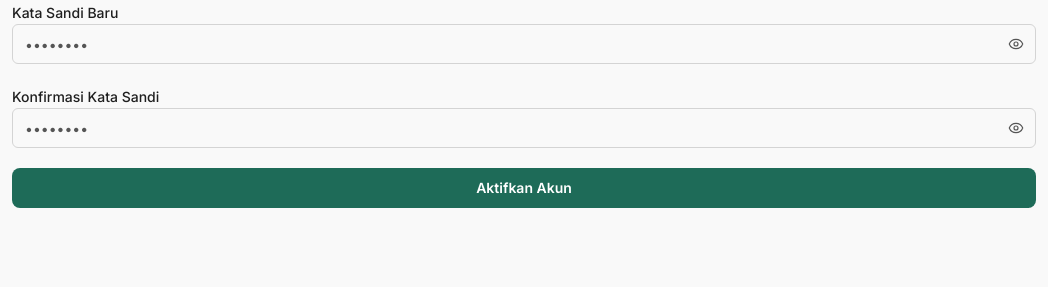
ResetPasswordForm token check on page open › invite link: activation wording, success points to login, dead link tells user to ask the admin
Type "rahasia123" into the password field labelled "Kata Sandi Baru". click: (524, 44)
box: [12,24,1036,64]
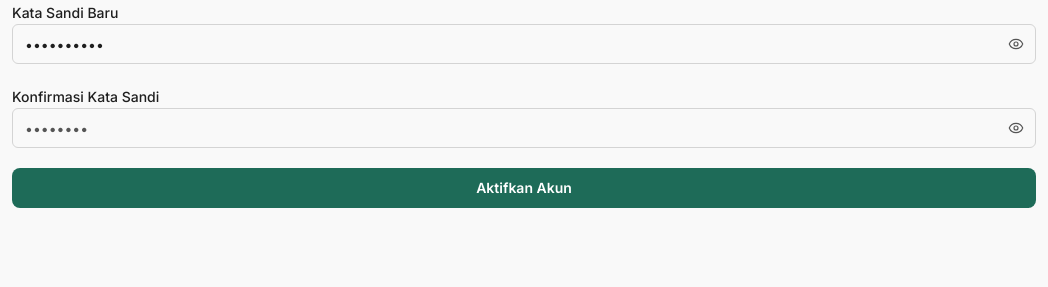
Type "rahasia123" into the password field labelled "Konfirmasi Kata Sandi". click: (524, 128)
box: [12,108,1036,148]
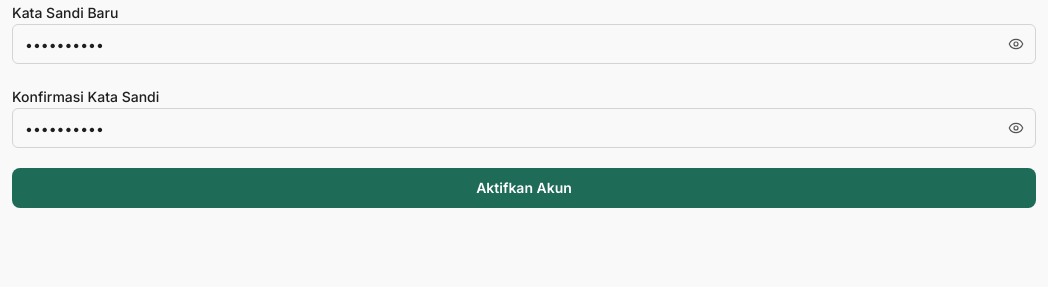
Click the button "Aktifkan Akun". click: (524, 188)
box: [12,168,1036,208]
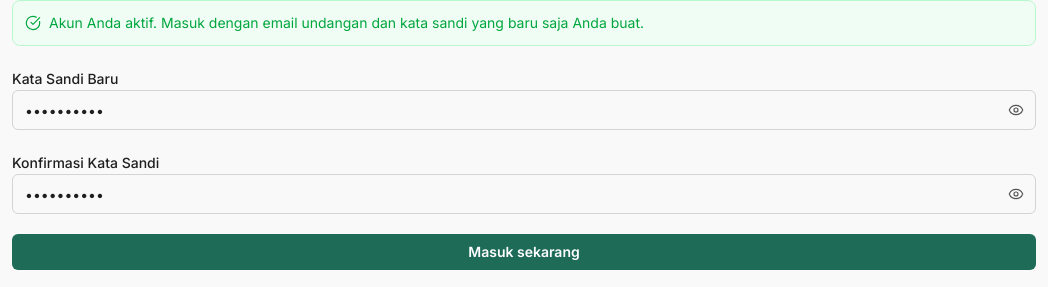
Check: the text with test id "reset-success-text" shows "Akun Anda aktif", box [49,14,644,31]
